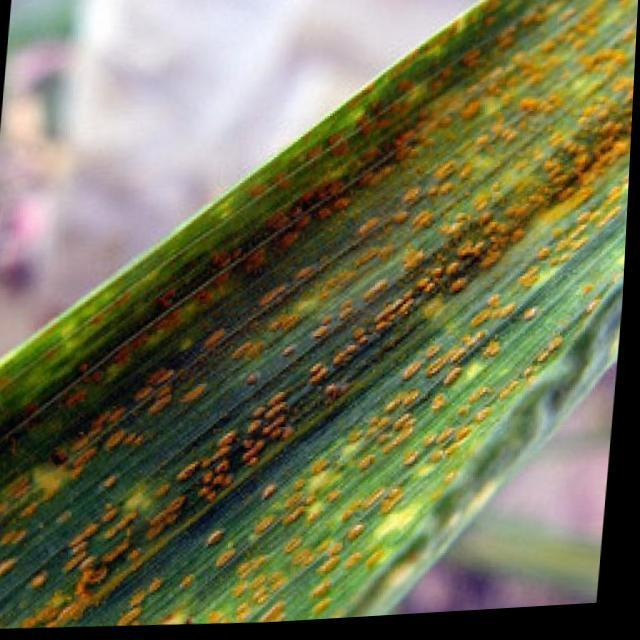Yellow Rust: (0, 0, 638, 628)
